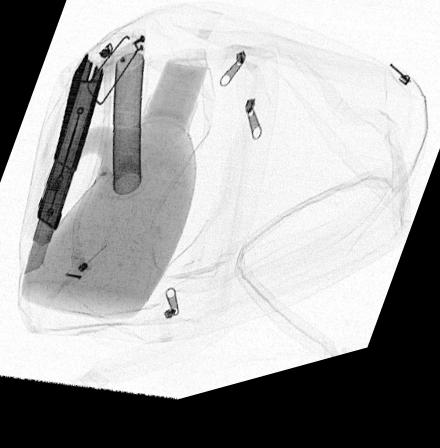Knife: (22, 57, 103, 276)
